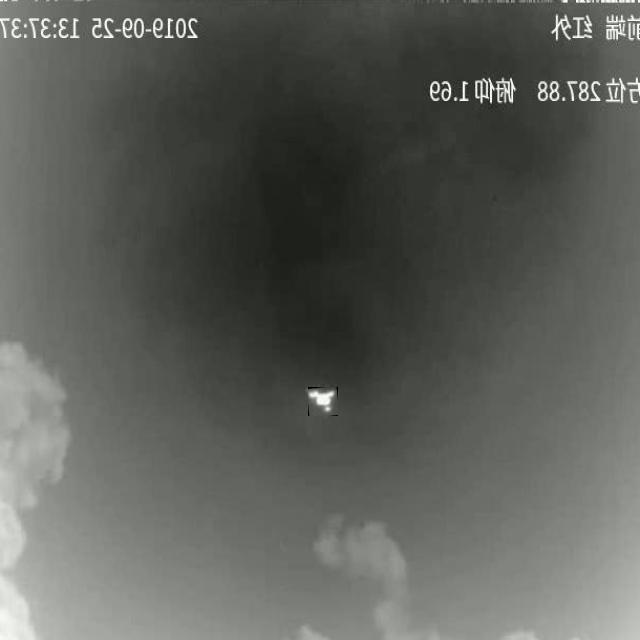drone: (308, 387, 338, 416)
